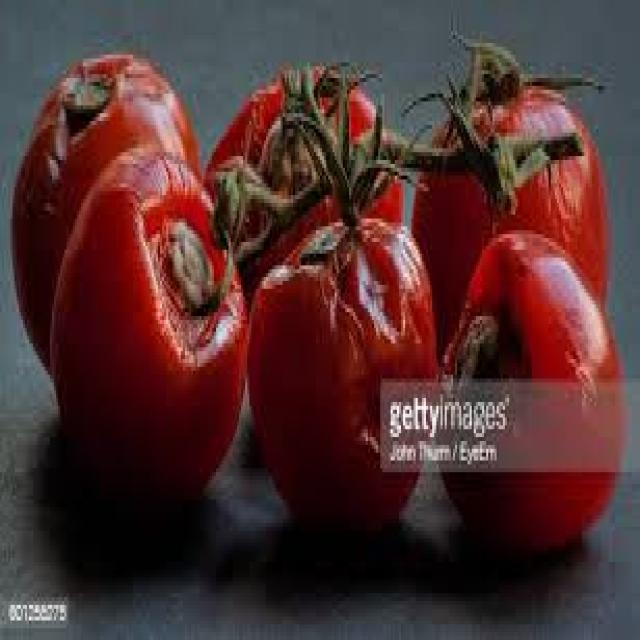food_waste: (15, 43, 619, 527), (443, 472, 611, 546)
